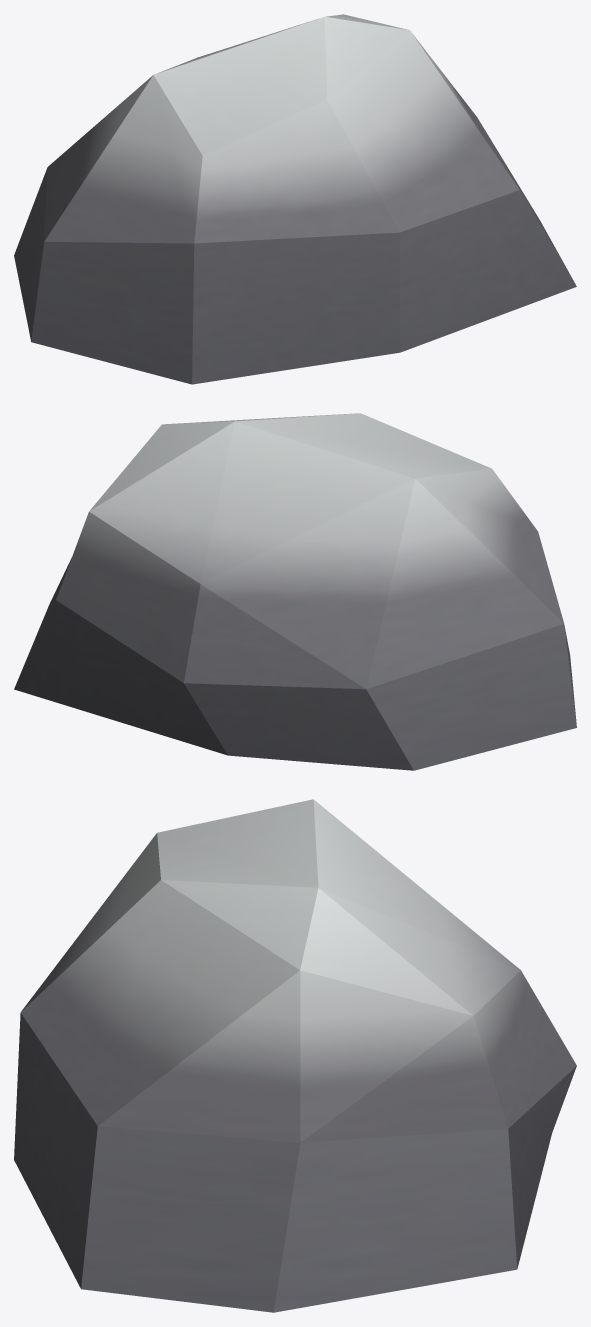
File: Rock_C_Snow.obj
3 renders of one model, top to bottom at view 1: azimuth 30°, elevation 25°; view 2: azimuth 150°, elevation 25°; view 3: azimuth 270°, elevation 25°, orthographic. The views are drawn at different scales.
Visible parts, largest first — view 1: Rock_C_Snow; view 2: Rock_C_Snow; view 3: Rock_C_Snow.
Boxes of the visible parts, x1=… form: Rock_C_Snow: x1=14, y1=14, x2=576, y2=384; Rock_C_Snow: x1=14, y1=413, x2=576, y2=770; Rock_C_Snow: x1=14, y1=799, x2=576, y2=1312.
Bounding box in the file's own units: 0.9906 × 0.4476 × 0.7478.
